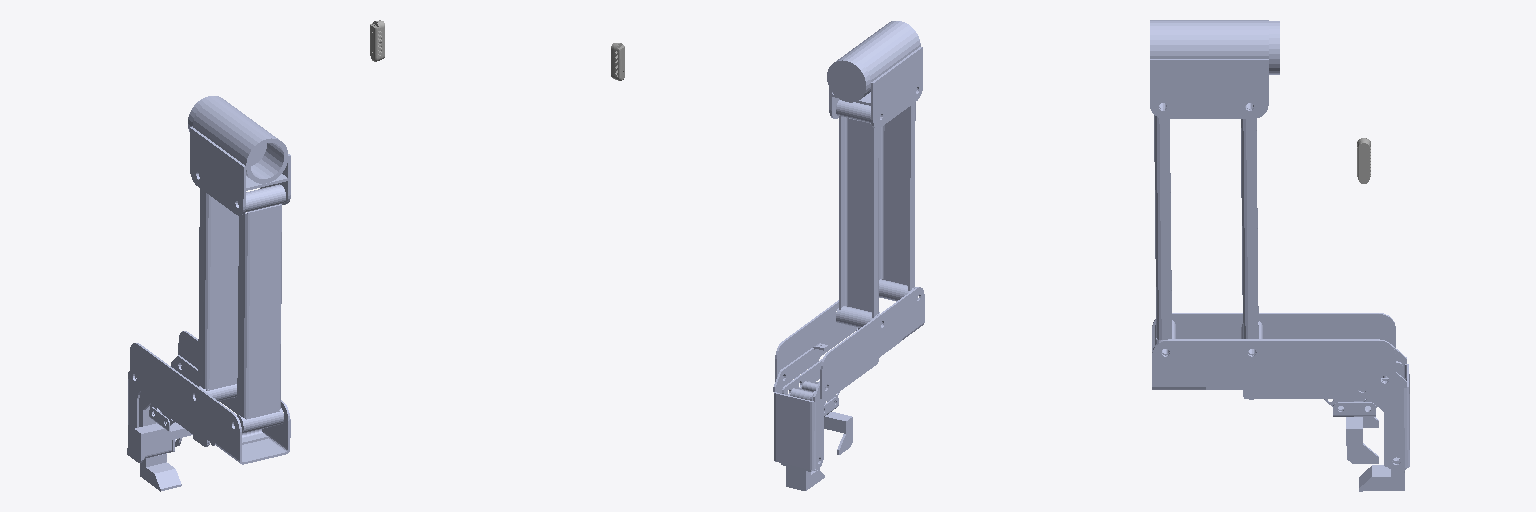
URDF robot description (tugging_robot_180424_2):
<?xml version="1.0" encoding="utf-8"?>
<!-- This URDF was automatically created by SolidWorks to URDF Exporter! Originally created by [author] ([email redacted]) 
     Commit Version: 1.6.0-4-g7f85cfe  Build Version: 1.6.7995.38578
     For more information, please see http://wiki.ros.org/sw_urdf_exporter -->
<robot
  name="tugging_robot_180424_2">
  <link
    name="base_footprint">
    <inertial>
      <origin
        xyz="0.37605 -0.51412 0.49174"
        rpy="0 0 0" />
      <mass
        value="9.4248E-05" />
      <inertia
        ixx="7.0921E-09"
        ixy="2.732E-42"
        ixz="9.9062E-57"
        iyy="4.7124E-11"
        iyz="-2.5059E-23"
        izz="7.0921E-09" />
    </inertial>
    <visual>
      <origin
        xyz="0 0 0"
        rpy="0 0 0" />
      <geometry>
        <mesh
          filename="package://tugging_robot_180424_2/meshes/base_footprint.STL" />
      </geometry>
      <material
        name="">
        <color
          rgba="0.79216 0.81961 0.93333 1" />
      </material>
    </visual>
    <collision>
      <origin
        xyz="0 0 0"
        rpy="0 0 0" />
      <geometry>
        <mesh
          filename="package://tugging_robot_180424_2/meshes/base_footprint.STL" />
      </geometry>
    </collision>
  </link>

  <link
    name="base_link">
    <inertial>
      <origin
        xyz="-0.33588 -0.15455 0.30417"
        rpy="0 0 0" />
      <mass
        value="63.313" />
      <inertia
        ixx="1.398"
        ixy="-2.3015E-05"
        ixz="-0.032148"
        iyy="1.8967"
        iyz="1.5634E-06"
        izz="2.9958" />
    </inertial>
    <visual>
      <origin
        xyz="0 0 0"
        rpy="0 0 0" />
      <geometry>
        <mesh
          filename="package://tugging_robot_180424_2/meshes/base_link.STL" />
      </geometry>
      <material
        name="">
        <color
          rgba="0.79216 0.81961 0.93333 1" />
      </material>
    </visual>
    <collision>
      <origin
        xyz="0 0 0"
        rpy="0 0 0" />
      <geometry>
        <mesh
          filename="package://tugging_robot_180424_2/meshes/base_link.STL" />
      </geometry>
    </collision>
  </link>

  <joint
    name="base_joint"
    type="fixed">
    <origin
      xyz="0.70895 -0.48043 0.63729"
      rpy="1.5708 0 0" />
    <parent
      link="base_footprint" />
    <child
      link="base_link" />
    <axis
      xyz="0 0 1" />
  </joint>

  <link
    name="l_wheel_link">
    <inertial>
      <origin
        xyz="-1.5761E-08 -1.6217E-08 -0.64357"
        rpy="0 0 0" />
      <mass
        value="1.2164" />
      <inertia
        ixx="0.0044416"
        ixy="-4.3509E-07"
        ixz="-4.9269E-11"
        iyy="0.0044446"
        iyz="-7.37E-11"
        izz="0.0082257" />
    </inertial>
    <visual>
      <origin
        xyz="0 0 0"
        rpy="0 0 0" />
      <geometry>
        <mesh
          filename="package://tugging_robot_180424_2/meshes/l_wheel_link.STL" />
      </geometry>
      <material
        name="">
        <color
          rgba="0.79216 0.81961 0.93333 1" />
      </material>
    </visual>
    <collision>
      <origin
        xyz="0 0 0"
        rpy="0 0 0" />
      <geometry>
        <mesh
          filename="package://tugging_robot_180424_2/meshes/l_wheel_link.STL" />
      </geometry>
    </collision>
  </link>
  
  <joint
    name="l_wheel_joint"
    type="continuous">
    <origin
      xyz="-0.335 -0.48237 0.11759"
      rpy="1.5708 0 0" />
    <parent
      link="base_link" />
    <child
      link="l_wheel_link" />
    <axis
      xyz="0 0 -1" />
  </joint>
  <link
    name="r_wheel_link">
    <inertial>
      <origin
        xyz="-1.5453E-08 1.6511E-08 0.64357"
        rpy="0 0 0" />
      <mass
        value="1.2164" />
      <inertia
        ixx="0.0044416"
        ixy="4.9256E-07"
        ixz="4.7872E-11"
        iyy="0.0044446"
        iyz="-7.4615E-11"
        izz="0.0082257" />
    </inertial>
    <visual>
      <origin
        xyz="0 0 0"
        rpy="0 0 0" />
      <geometry>
        <mesh
          filename="package://tugging_robot_180424_2/meshes/r_wheel_link.STL" />
      </geometry>
      <material
        name="">
        <color
          rgba="0.79216 0.81961 0.93333 1" />
      </material>
    </visual>
    <collision>
      <origin
        xyz="0 0 0"
        rpy="0 0 0" />
      <geometry>
        <mesh
          filename="package://tugging_robot_180424_2/meshes/r_wheel_link.STL" />
      </geometry>
    </collision>
  </link>
  <joint
    name="r_wheel_joint"
    type="continuous">
    <origin
      xyz="-0.335 0.18237 0.11759"
      rpy="1.5708 0 0" />
    <parent
      link="base_link" />
    <child
      link="r_wheel_link" />
    <axis
      xyz="0 0 1" />
  </joint>
  <link
    name="laser_link">
    <inertial>
      <origin
        xyz="-7.8753E-05 4.4713E-05 -0.045208"
        rpy="0 0 0" />
      <mass
        value="0.5925" />
      <inertia
        ixx="0.00070857"
        ixy="-1.3149E-06"
        ixz="1.5954E-06"
        iyy="0.00070664"
        iyz="3.8009E-07"
        izz="0.00080931" />
    </inertial>
    <visual>
      <origin
        xyz="0 0 0"
        rpy="0 0 0" />
      <geometry>
        <mesh
          filename="package://tugging_robot_180424_2/meshes/laser_link.STL" />
      </geometry>
      <material
        name="">
        <color
          rgba="0.79216 0.81961 0.93333 1" />
      </material>
    </visual>
    <collision>
      <origin
        xyz="0 0 0"
        rpy="0 0 0" />
      <geometry>
        <mesh
          filename="package://tugging_robot_180424_2/meshes/laser_link.STL" />
      </geometry>
    </collision>
  </link>
  <joint
    name="laser_joint"
    type="fixed">
    <origin
      xyz="0.10254 -0.15013 0.29248"
      rpy="0 0 0" />
    <parent
      link="base_link" />
    <child
      link="laser_link" />
    <axis
      xyz="0 0 0" />
  </joint>
  <link
    name="camera_link">
    <inertial>
      <origin
        xyz="-0.013293 -0.0014081 2.3419E-05"
        rpy="0 0 0" />
      <mass
        value="0.036474" />
      <inertia
        ixx="2.3405E-05"
        ixy="-2.1067E-07"
        ixz="-1.0144E-08"
        iyy="3.5064E-06"
        iyz="1.6649E-09"
        izz="2.3613E-05" />
    </inertial>
    <visual>
      <origin
        xyz="0 0 0"
        rpy="0 0 0" />
      <geometry>
        <mesh
          filename="package://tugging_robot_180424_2/meshes/camera_link.STL" />
      </geometry>
      <material
        name="">
        <color
          rgba="0.70196 0.70196 0.70196 1" />
      </material>
    </visual>
    <collision>
      <origin
        xyz="0 0 0"
        rpy="0 0 0" />
      <geometry>
        <mesh
          filename="package://tugging_robot_180424_2/meshes/camera_link.STL" />
      </geometry>
    </collision>
  </link>
  <joint
    name="camera_joint"
    type="prismatic">
    <origin
      xyz="0.165 -0.1503 0.33308"
      rpy="0 0 0" />
    <parent
      link="base_link" />
    <child
      link="camera_link" />
    <axis
      xyz="0 1 0" />
    <limit
      lower="0"
      upper="0"
      effort="0"
      velocity="0" />
  </joint>
  <link
    name="tug_arm">
    <inertial>
      <origin
        xyz="-0.3066 0.001304 0.055888"
        rpy="0 0 0" />
      <mass
        value="4.352" />
      <inertia
        ixx="0.023067"
        ixy="2.8685E-05"
        ixz="-0.00052821"
        iyy="0.032123"
        iyz="1.6731E-06"
        izz="0.019556" />
    </inertial>
    <visual>
      <origin
        xyz="0 0 0"
        rpy="0 0 0" />
      <geometry>
        <mesh
          filename="package://tugging_robot_180424_2/meshes/tug_arm.STL" />
      </geometry>
      <material
        name="">
        <color
          rgba="0.79216 0.81961 0.93333 1" />
      </material>
    </visual>
    <collision>
      <origin
        xyz="0 0 0"
        rpy="0 0 0" />
      <geometry>
        <mesh
          filename="package://tugging_robot_180424_2/meshes/tug_arm.STL" />
      </geometry>
    </collision>
  </link>
  <joint
    name="tug_joint"
    type="revolute">
    <origin
      xyz="-0.337 -0.148 0.48859"
      rpy="0 0 0" />
    <parent
      link="base_link" />
    <child
      link="tug_arm" />
    <axis
      xyz="0 0 -1" />
    <limit
      lower="-1.57"
      upper="-1.57"
      effort="1"
      velocity="1" />
  </joint>
  <link
    name="sick_visionary_t_mini">
    <inertial>
      <origin
        xyz="0.033916 -0.00010743 2.0961E-13"
        rpy="0 0 0" />
      <mass
        value="0.38171" />
      <inertia
        ixx="0.0003602"
        ixy="-1.7782E-07"
        ixz="-1.1037E-14"
        iyy="0.00030406"
        iyz="-4.2545E-12"
        izz="0.00035182" />
    </inertial>
    <visual>
      <origin
        xyz="0 0 0"
        rpy="0 0 0" />
      <geometry>
        <mesh
          filename="package://tugging_robot_180424_2/meshes/sick_visionary_t_mini.STL" />
      </geometry>
      <material
        name="">
        <color
          rgba="0.79216 0.81961 0.93333 1" />
      </material>
    </visual>
    <collision>
      <origin
        xyz="0 0 0"
        rpy="0 0 0" />
      <geometry>
        <mesh
          filename="package://tugging_robot_180424_2/meshes/sick_visionary_t_mini.STL" />
      </geometry>
    </collision>
  </link>
  <joint
    name="sick_joint"
    type="fixed">
    <origin
      xyz="-0.74298 -0.00067763 0.17834"
      rpy="0 0 0" />
    <parent
      link="tug_arm" />
    <child
      link="sick_visionary_t_mini" />
    <axis
      xyz="0 0 0" />
  </joint>
</robot>

--- What the picture shows (computed from the rendered views, not written in the file) ---
The picture shows the robot from 3 angles, left to right: view 1: azimuth 30°, elevation 25°; view 2: azimuth 150°, elevation 25°; view 3: azimuth 270°, elevation 25°; orthographic projection.
Robot: tugging_robot_180424_2 — 8 links, 7 joints (1 revolute, 2 continuous, 1 prismatic, 3 fixed); root link base_footprint; default pose: all joints at 0 but 1 set to mid-range because 0 is outside their limits (tug_joint = -1.57).
Visible links, largest first — view 1: tug_arm, camera_link; view 2: tug_arm; view 3: tug_arm, camera_link.
Link boxes in pixels (x1,y1,x2,y2): tug_arm: [127, 96, 290, 491]; camera_link: [370, 20, 384, 61]; tug_arm: [773, 21, 924, 490]; tug_arm: [1150, 20, 1409, 491]; camera_link: [1357, 138, 1370, 183].
Size in the robot's own frame: 0.5898 by 0.4818 by 0.9452 metres.
Meshes: 8 distinct files referenced, 2 mesh visuals loaded (2 binary STL); not drawn: 6 (reference not matched to a file when rendering).